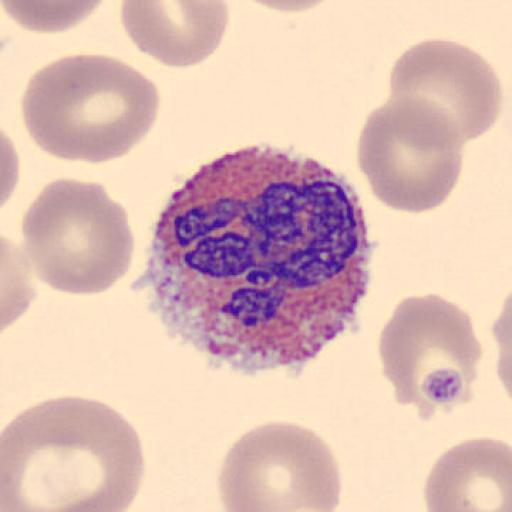RBC: (1, 395, 145, 512), (20, 52, 162, 165), (18, 176, 136, 297), (356, 94, 466, 214), (377, 291, 483, 409), (388, 36, 502, 142), (215, 419, 344, 512), (20, 52, 115, 165), (120, 0, 231, 68), (422, 434, 512, 512), (4, 0, 110, 34), (0, 234, 36, 333), (490, 287, 512, 407), (38, 489, 138, 512), (2, 124, 22, 206), (233, 1, 340, 15)
WBC: (143, 146, 372, 377)
